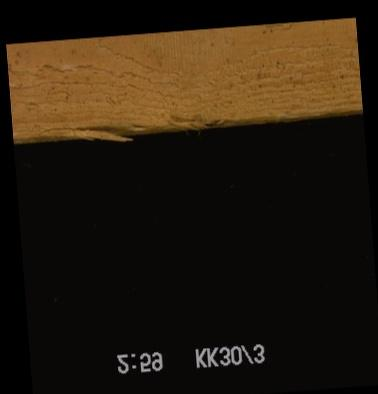split: (37, 123, 126, 136)
